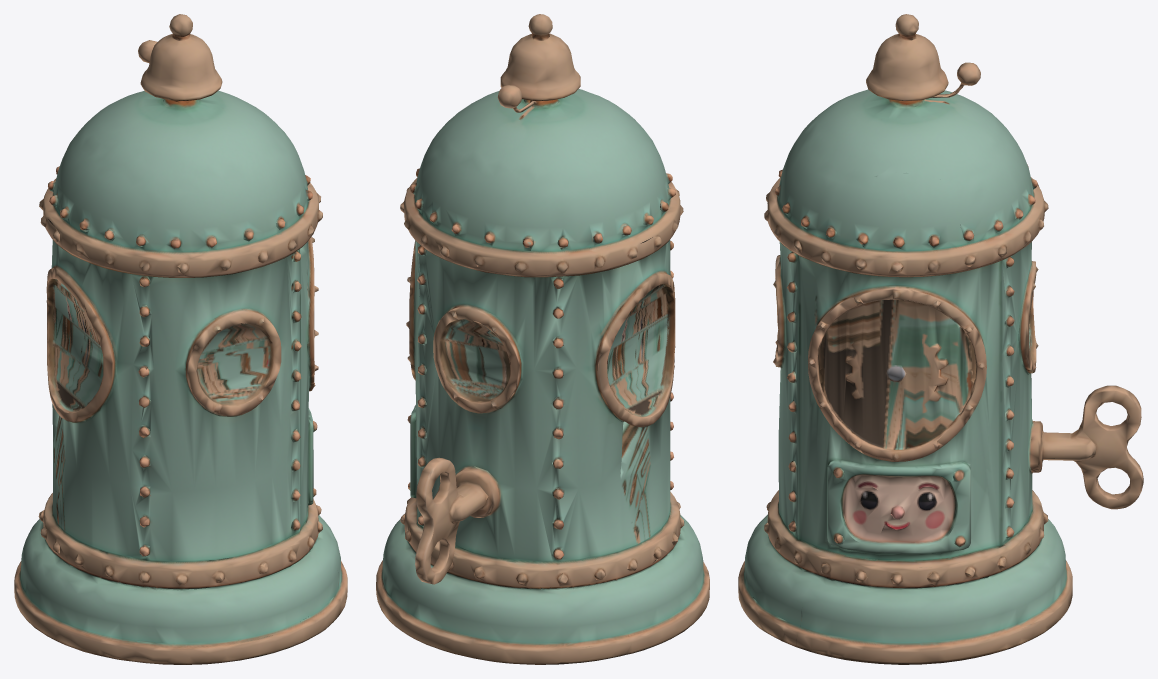
The picture shows the model from 3 angles, left to right: view 1: azimuth 30°, elevation 25°; view 2: azimuth 150°, elevation 25°; view 3: azimuth 270°, elevation 25°; orthographic projection.
Parts seen in each view (by area): view 1: repaired; view 2: repaired; view 3: repaired.
Boxes of the visible parts, box(x1,y1,x2,y2) form: repaired: box(14, 14, 347, 664); repaired: box(376, 14, 709, 664); repaired: box(738, 14, 1143, 664).
Bounding box in the file's own units: 0.5228 × 0.9998 × 0.6331.
1 material, 1 textured.
